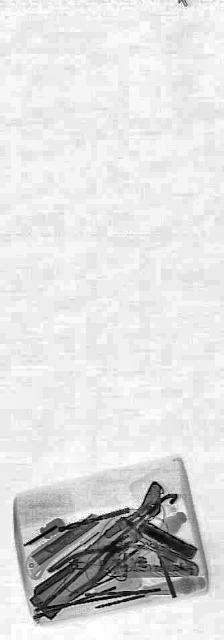Pliers: (54, 508, 132, 612)
